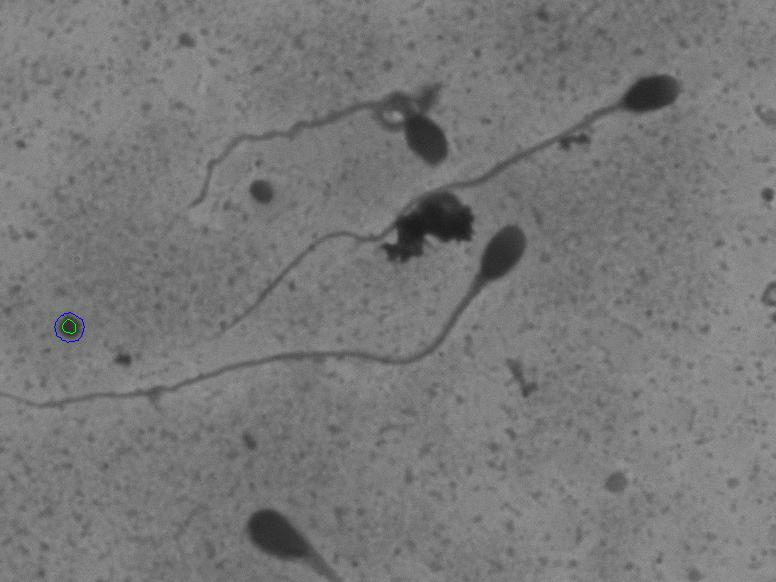Abnormal: (214, 77, 448, 169)
Normal: (195, 60, 692, 340), (23, 208, 560, 421)
